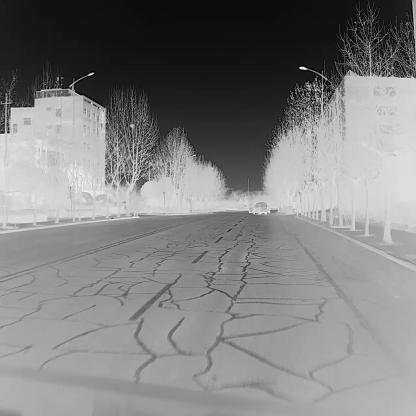car: (253, 201, 268, 215), (266, 204, 271, 213), (248, 206, 254, 213)
